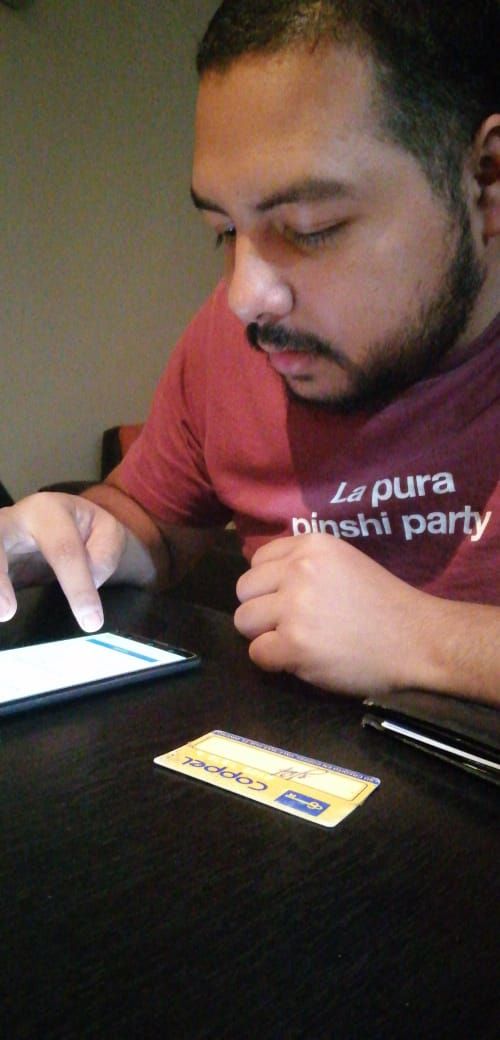Yoshi: (139, 23, 453, 449)
